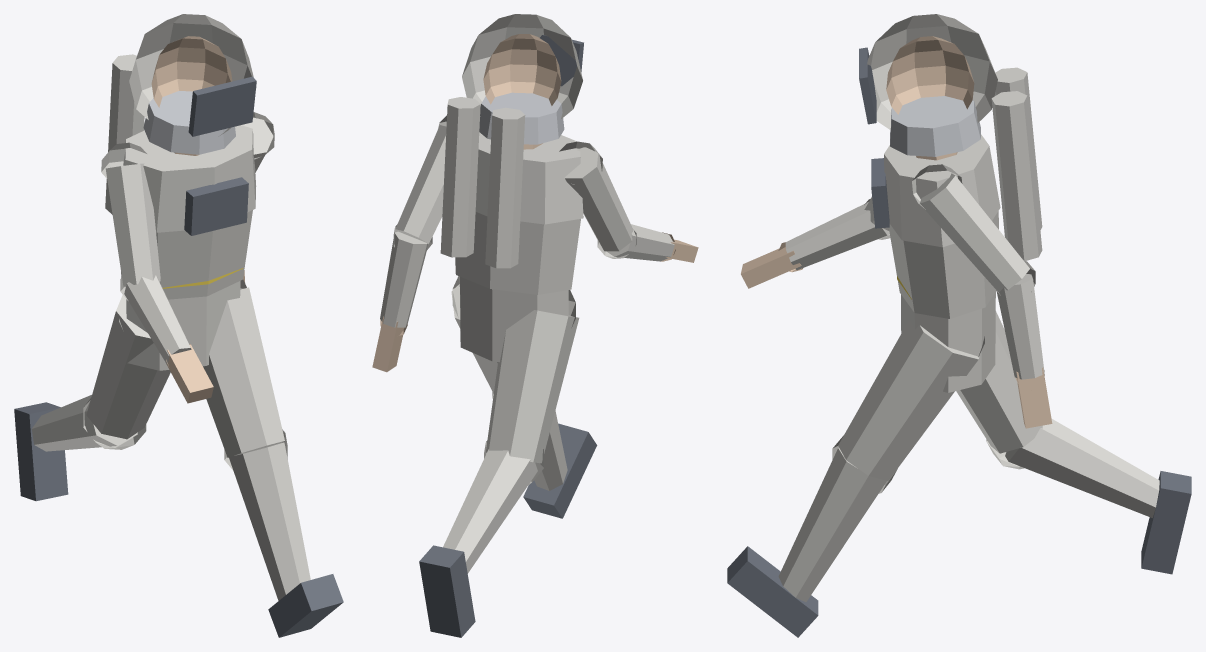
Rendered from low-poly-character-figures-spacesuit-figure-walking-86575eb4__36381.glb.
3 renders of one model, left to right at view 1: azimuth 30°, elevation 25°; view 2: azimuth 150°, elevation 25°; view 3: azimuth 270°, elevation 25°, orthographic. The views are drawn at different scales.
Parts seen in each view (by area): view 1: spacesuit-figure-walking; view 2: spacesuit-figure-walking; view 3: spacesuit-figure-walking.
Part boxes in pixels (box(x1,y1,x2,y2)): spacesuit-figure-walking: box(14, 14, 343, 637); spacesuit-figure-walking: box(372, 14, 698, 637); spacesuit-figure-walking: box(727, 14, 1191, 637).
Bounding box in the file's own units: 0.6283 × 1.78 × 1.27.
